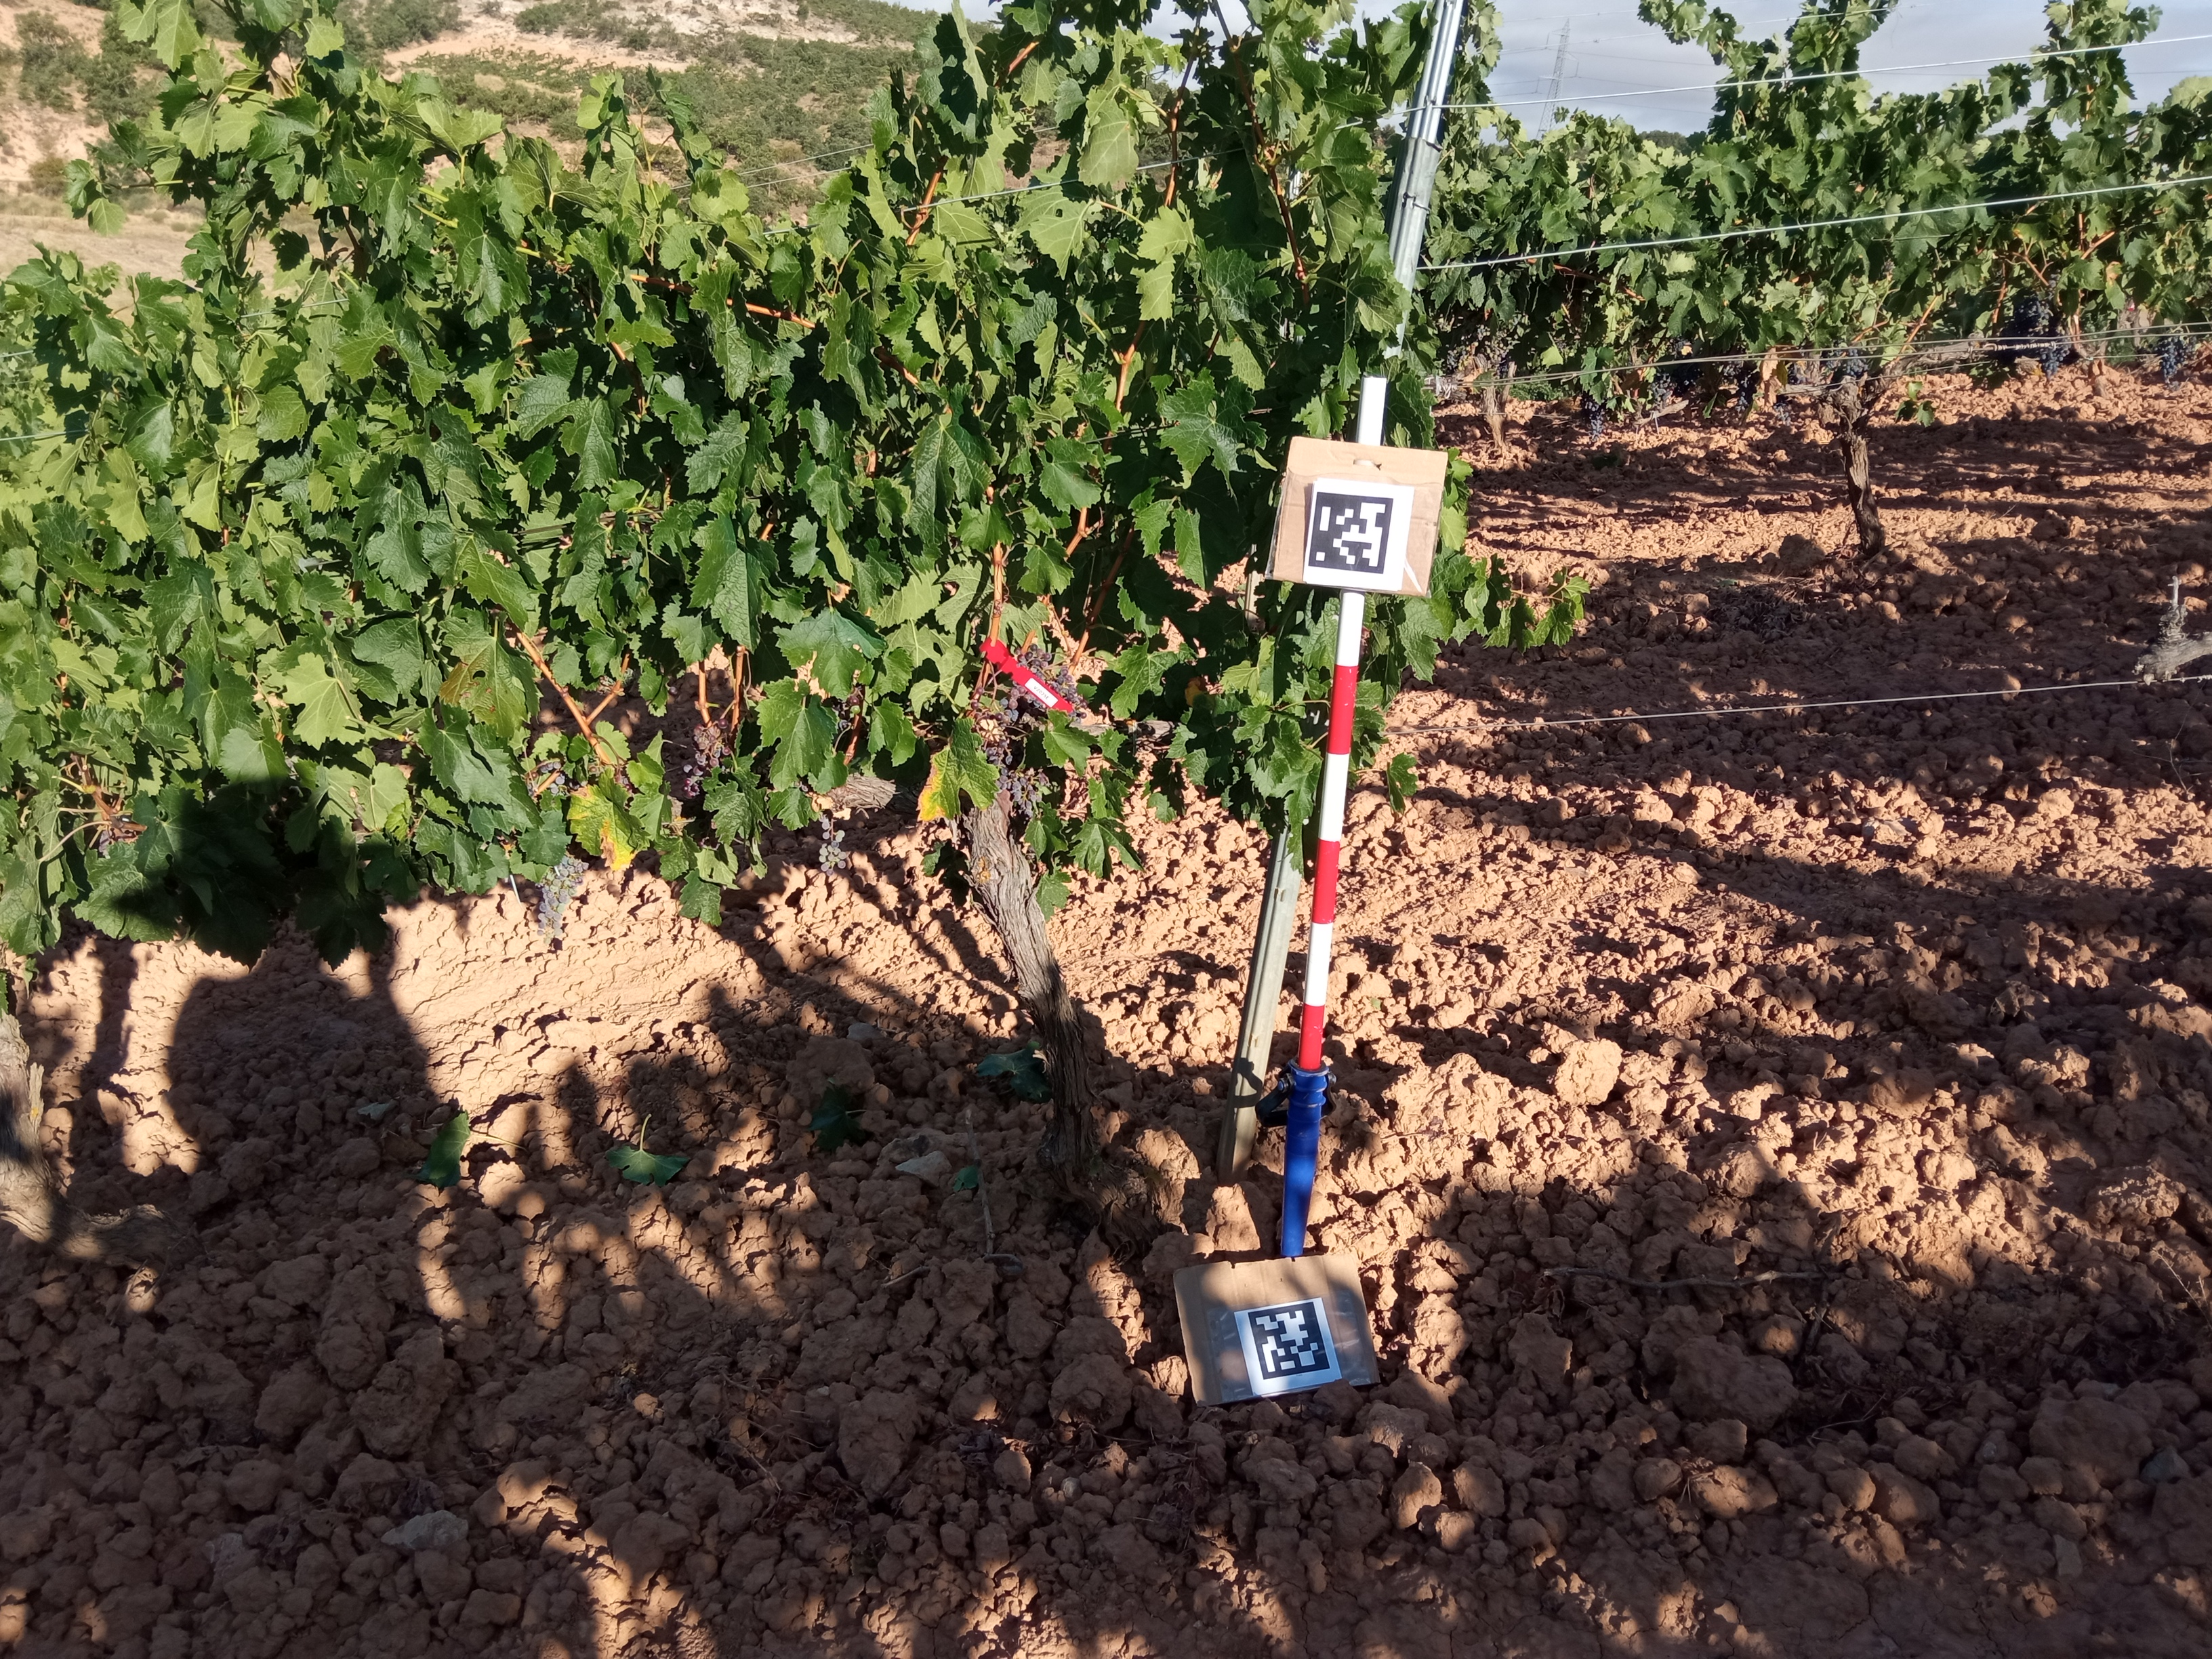grapes: (1001, 643, 1089, 716), (533, 857, 590, 946), (986, 744, 1038, 817), (683, 720, 728, 798), (819, 817, 848, 878), (538, 762, 570, 795)
